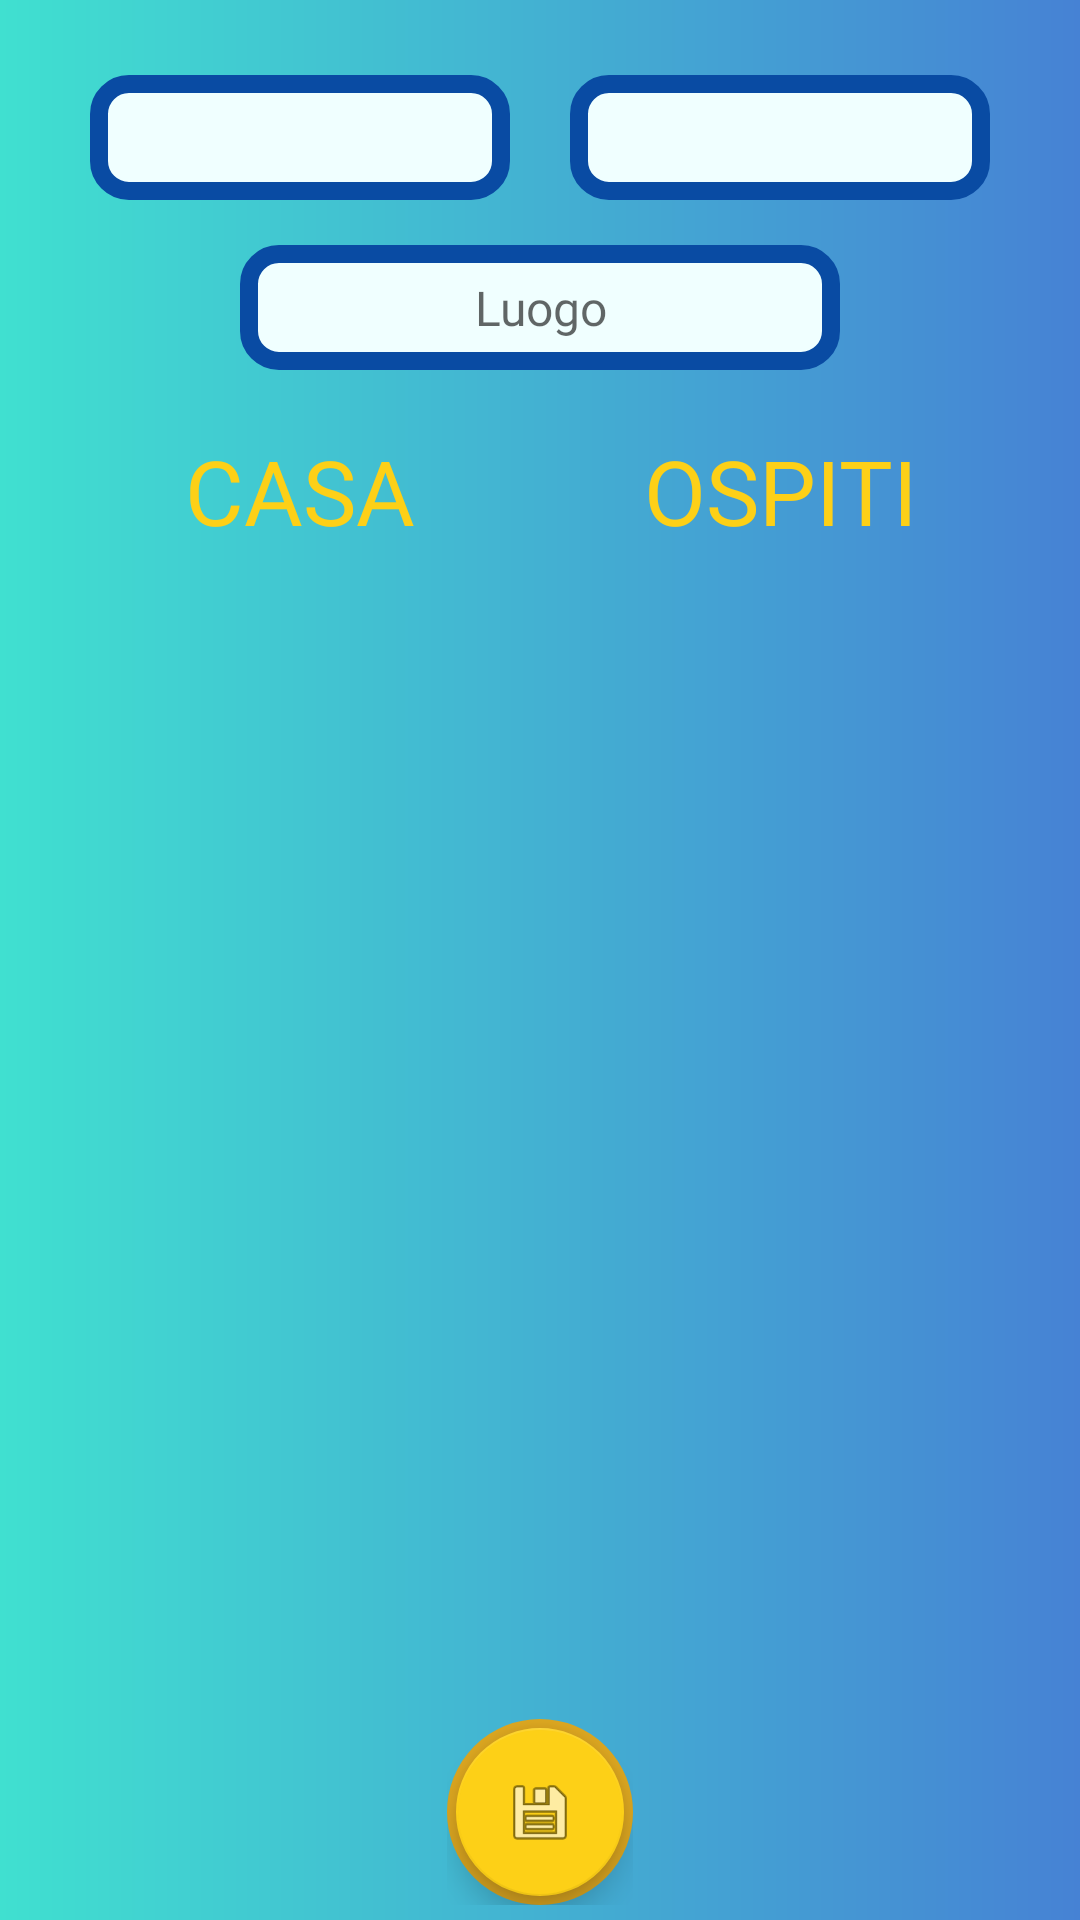

Icon click points for this 1080×1920 phone screenshot, format [x,y]:
save: [540,1812]
